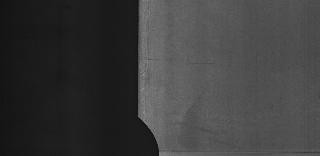welding line: (154, 144, 320, 156)
